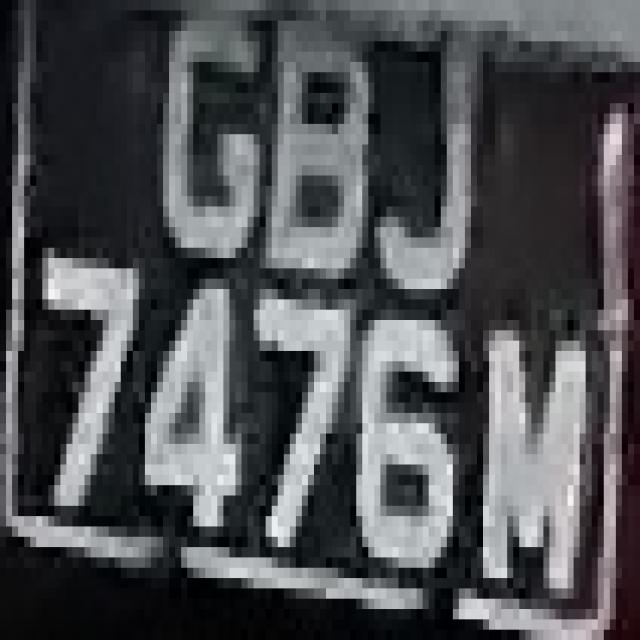4: (115, 258, 242, 568)
6: (350, 289, 465, 619)
7: (36, 217, 133, 557), (248, 279, 344, 609)
B: (272, 21, 380, 310)
G: (151, 10, 266, 279)
J: (368, 31, 489, 299)
M: (477, 289, 604, 609)
